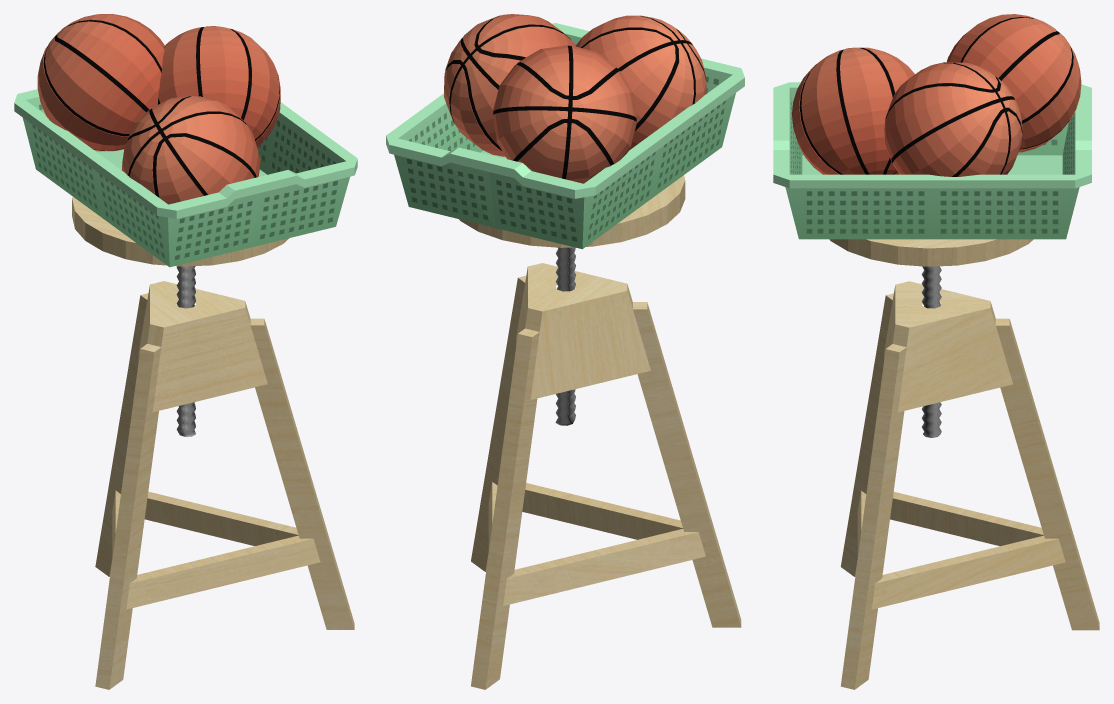
Rendered from basket_basketball.glb.
3 views of the same model, side by side, from view 1: azimuth 30°, elevation 25°; view 2: azimuth 150°, elevation 25°; view 3: azimuth 270°, elevation 25° (orthographic). The views are drawn at different scales.
Parts seen in each view (by area): view 1: bar_stool:base_1, Box001, BasketballBall002, BasketballBall001, BasketballBall; view 2: bar_stool:base_1, Box001, BasketballBall002, BasketballBall001, BasketballBall; view 3: bar_stool:base_1, Box001, BasketballBall, BasketballBall001, BasketballBall002.
Boxes of the visible parts, x1,y1,x2,y2 form: bar_stool:base_1: [72, 197, 354, 689]; Box001: [14, 89, 357, 267]; BasketballBall002: [37, 14, 164, 151]; BasketballBall001: [122, 95, 260, 204]; BasketballBall: [157, 26, 280, 147]; bar_stool:base_1: [459, 175, 741, 689]; Box001: [386, 23, 744, 249]; BasketballBall002: [493, 45, 636, 183]; BasketballBall001: [575, 15, 706, 149]; BasketballBall: [444, 14, 575, 156]; bar_stool:base_1: [829, 239, 1099, 689]; Box001: [773, 82, 1091, 239]; BasketballBall: [884, 62, 1022, 176]; BasketballBall001: [792, 47, 914, 174]; BasketballBall002: [947, 14, 1081, 152].
Size of the model in its own units: 1.62 by 3.51 by 1.77.
4 materials, 3 textured.
